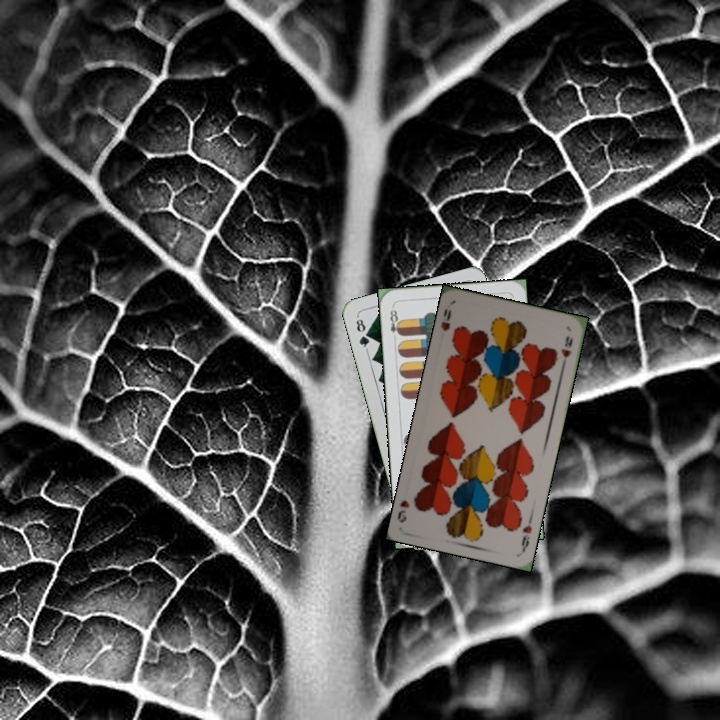E8: (386, 303, 404, 343)
G8: (352, 313, 372, 353)
H9: (517, 513, 534, 553), (437, 304, 454, 333)
